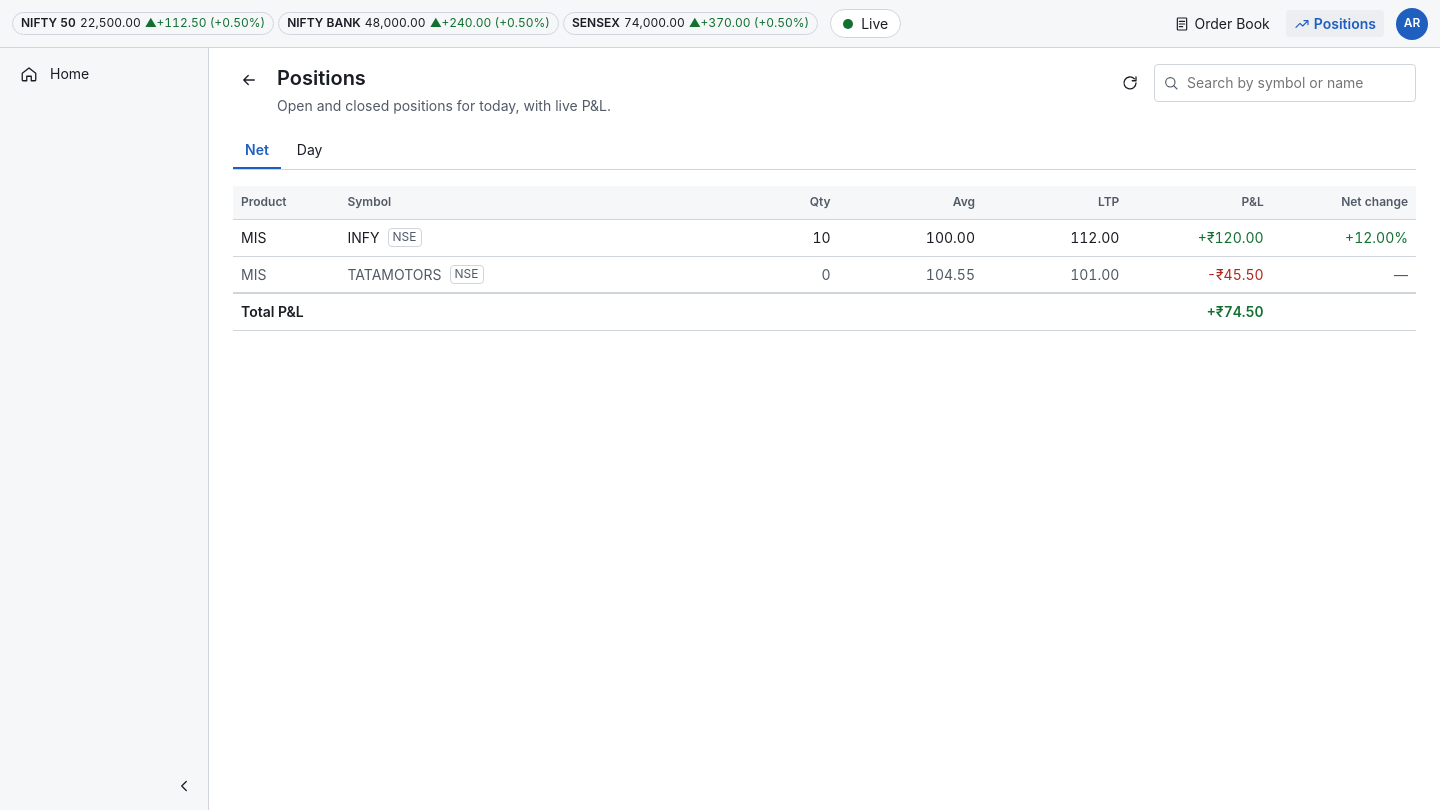
Test: FR-ORD-002 Positions view (read-only in P0) › searches by symbol and reports matches to the list page (Task 5 carry-forward)
Check: the row named "INFY MIS" is shown, box [233,220,1416,256]
Type "zzz" into the search field named "Search positions".
click(1297, 83); type("zzz")  # box [1187,65,1407,101]
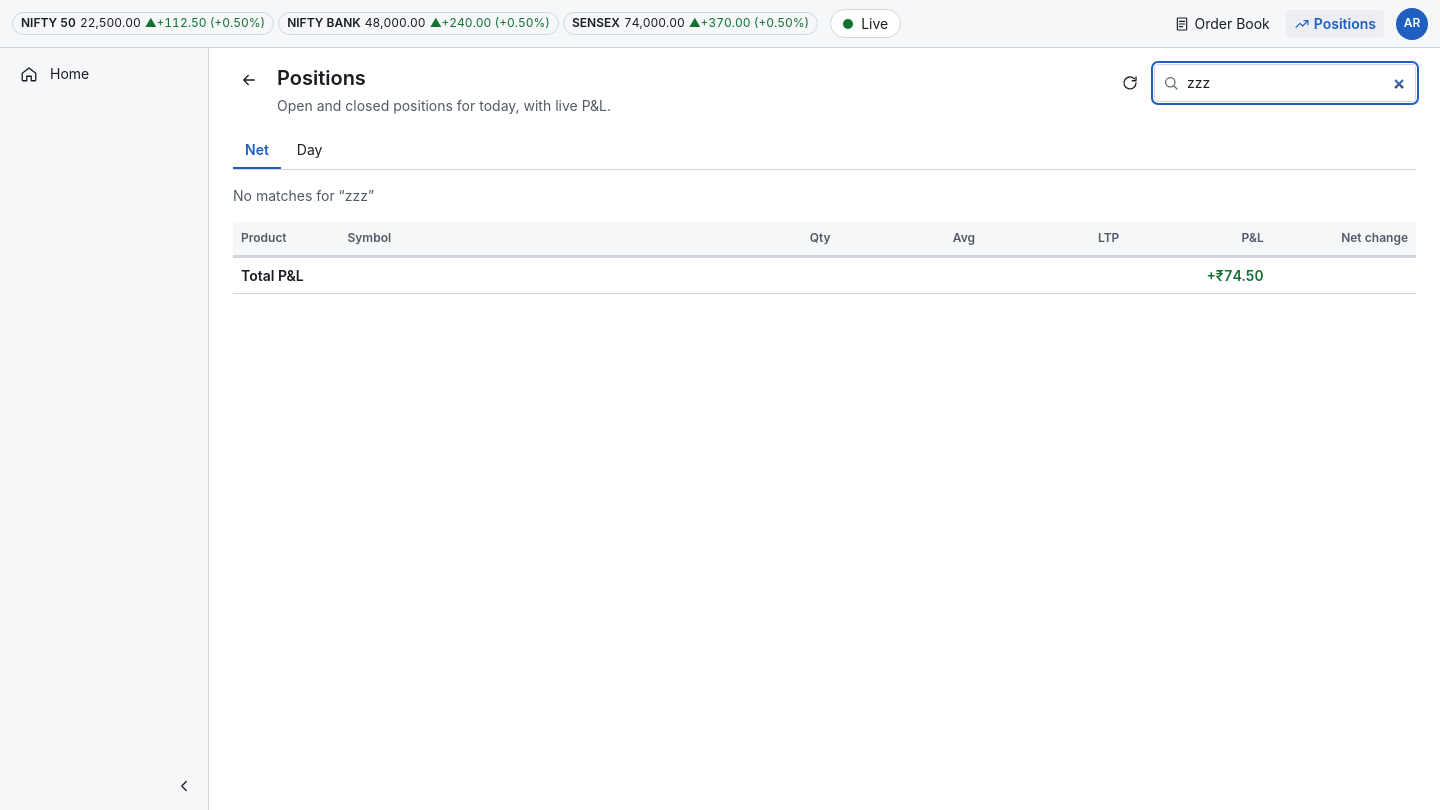
Check: the text "No matches for “zzz”" is shown, box [233,187,374,204]
